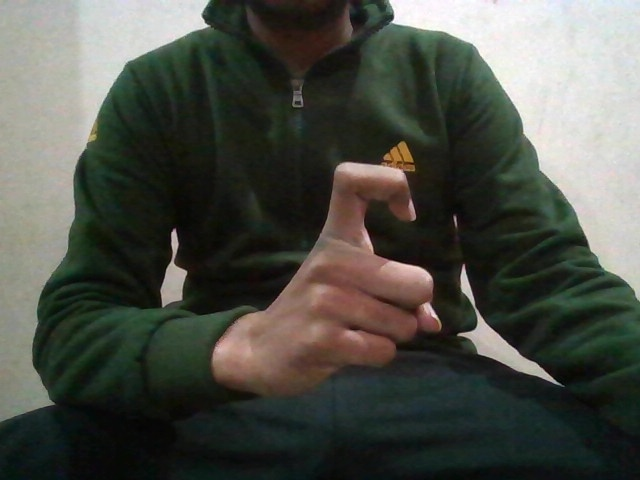P: (280, 161, 437, 397)
